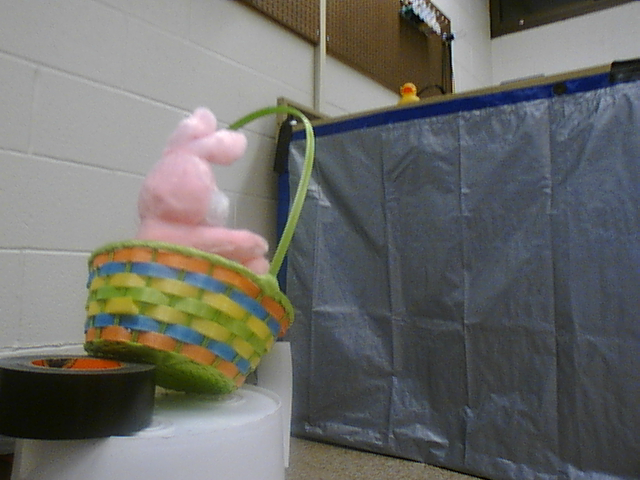bunny: (72, 102, 321, 406)
